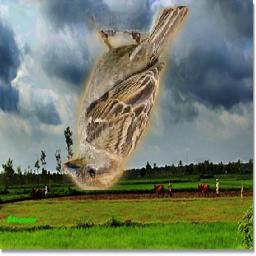Sparrow: (63, 6, 190, 190)
